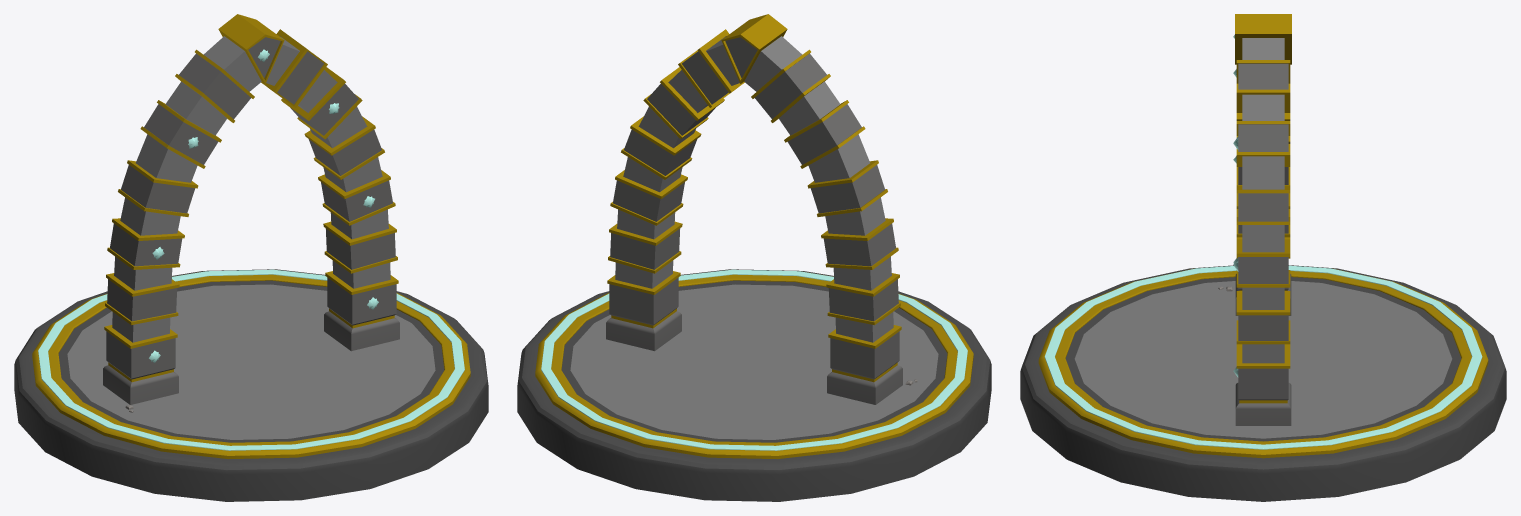
The model's file is PortalFinalModelGroup.fbx.
3 views of the same model, side by side, from view 1: azimuth 30°, elevation 25°; view 2: azimuth 150°, elevation 25°; view 3: azimuth 270°, elevation 25° (orthographic). The views are drawn at different scales.
Parts seen in each view (by area): view 1: PortalBottomModel, PortalModel, PortalGems; view 2: PortalBottomModel, PortalModel; view 3: PortalBottomModel, PortalModel.
Boxes of the visible parts, left/top/right/bottom form: PortalBottomModel: left=14, top=269, right=488, bottom=501; PortalModel: left=103, top=14, right=399, bottom=404; PortalGems: left=149, top=49, right=378, bottom=362; PortalBottomModel: left=517, top=269, right=991, bottom=501; PortalModel: left=606, top=14, right=902, bottom=404; PortalBottomModel: left=1020, top=265, right=1506, bottom=501; PortalModel: left=1235, top=14, right=1291, bottom=425.
Size of the model in its own units: 750 by 656 by 750.
